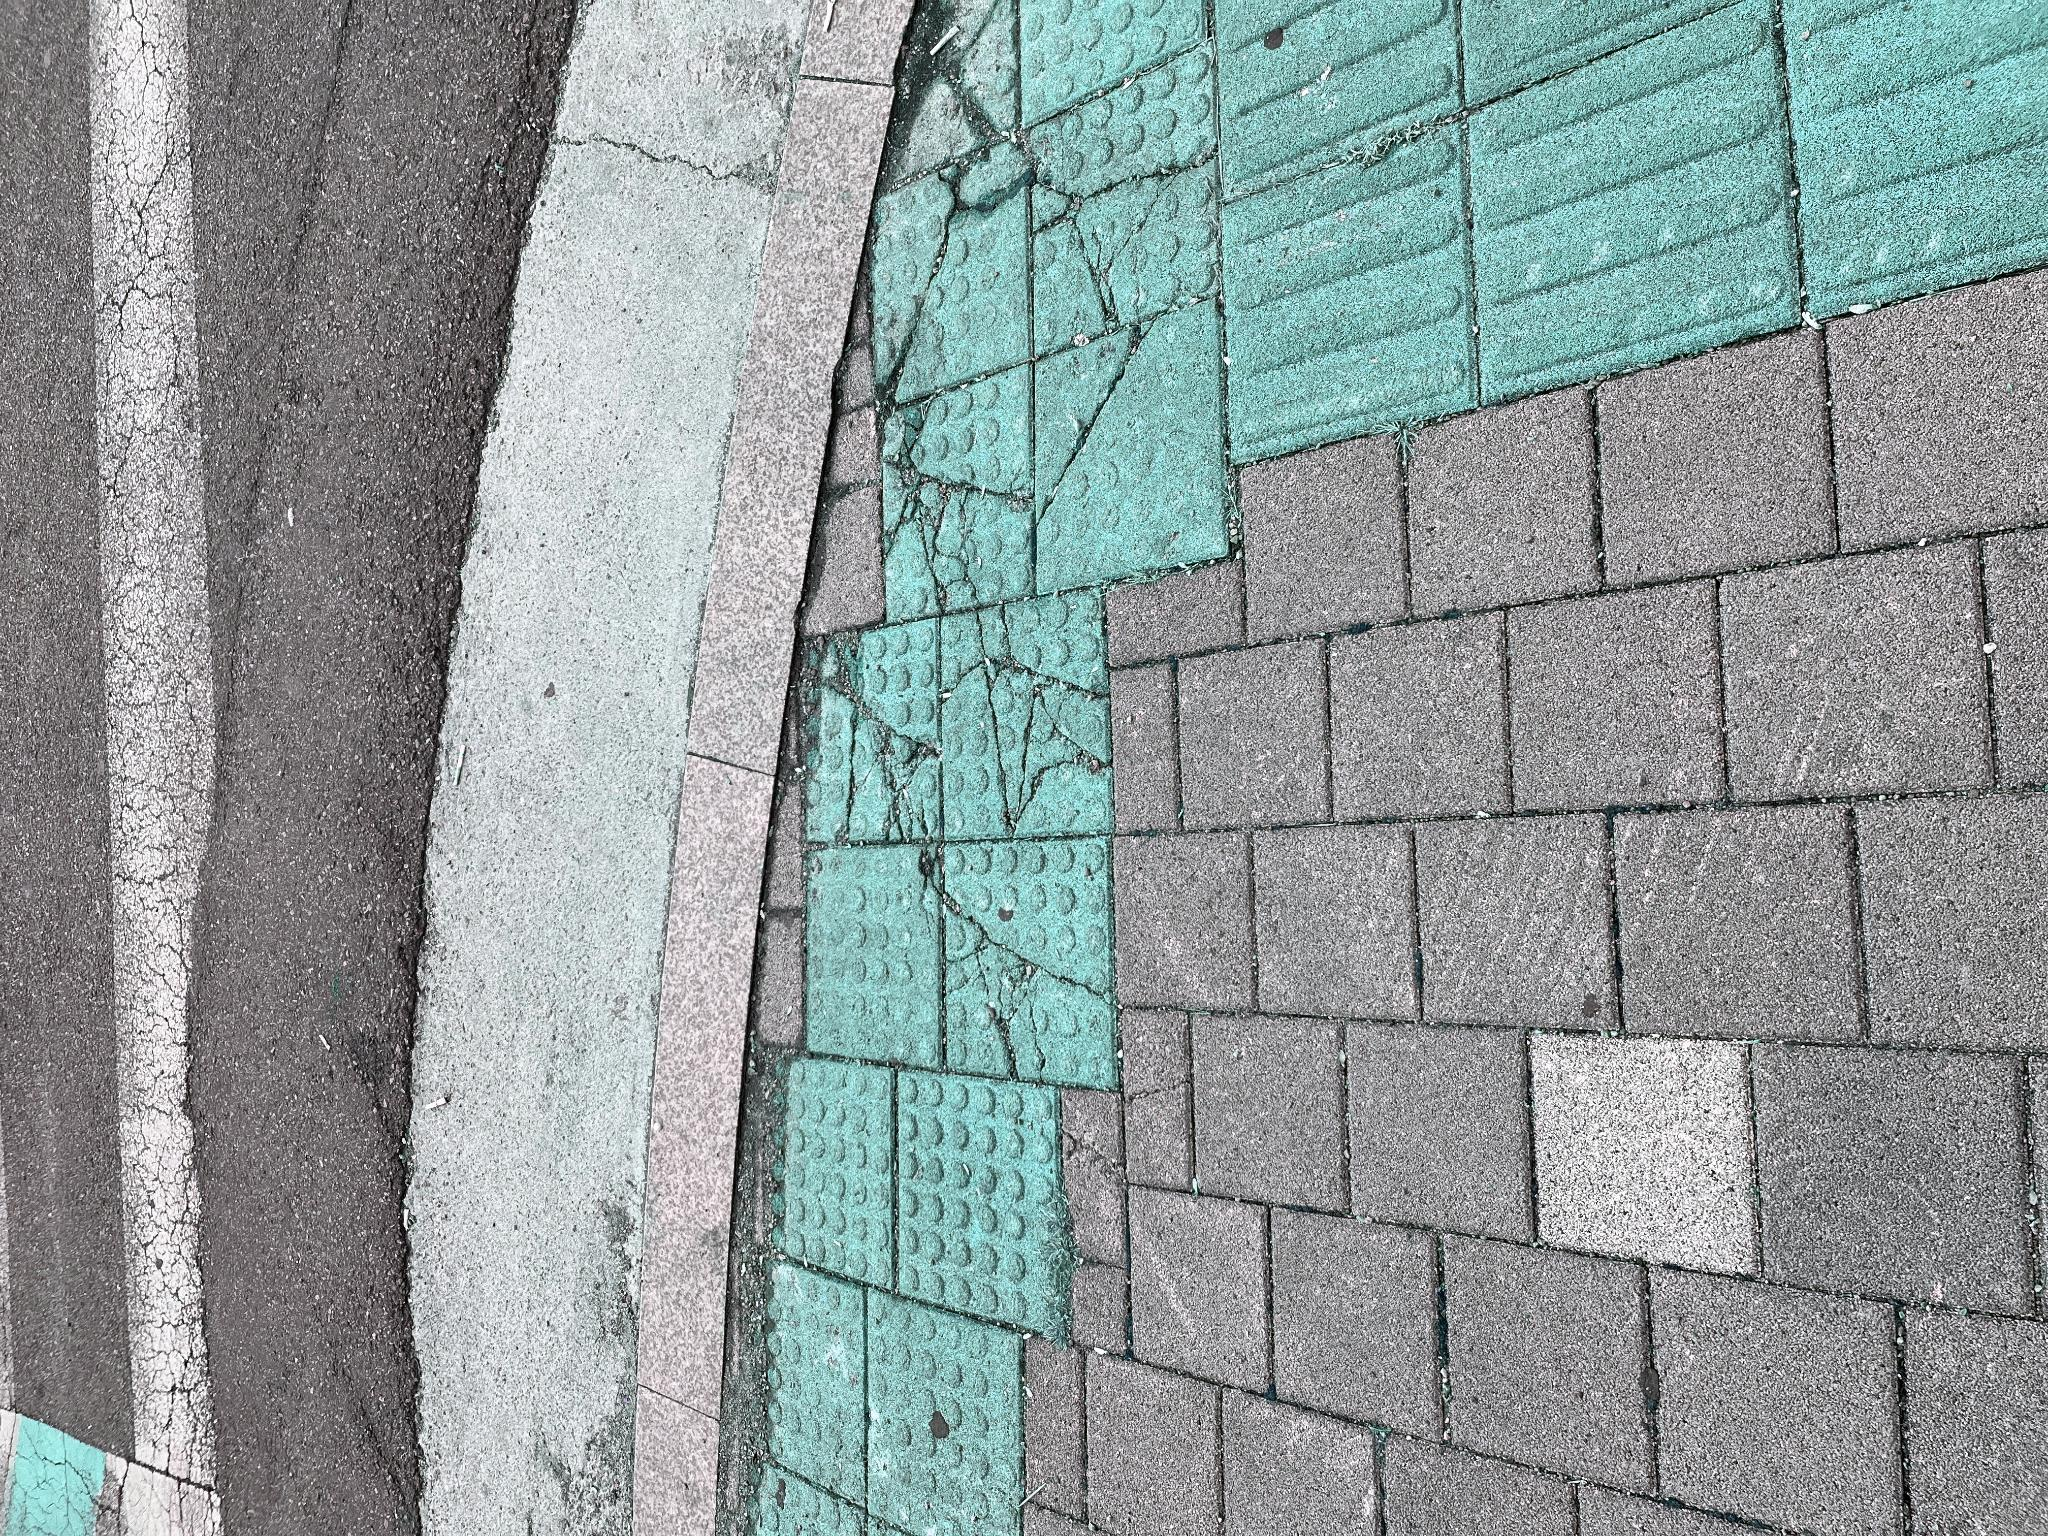Stop block broken: (1182, 1031, 1492, 1213), (943, 1036, 1235, 1225), (1130, 868, 1398, 1031), (697, 942, 948, 1110), (450, 945, 697, 1110), (913, 883, 1168, 1033), (693, 800, 916, 939)
Stop block normal: (198, 899, 466, 1062)
